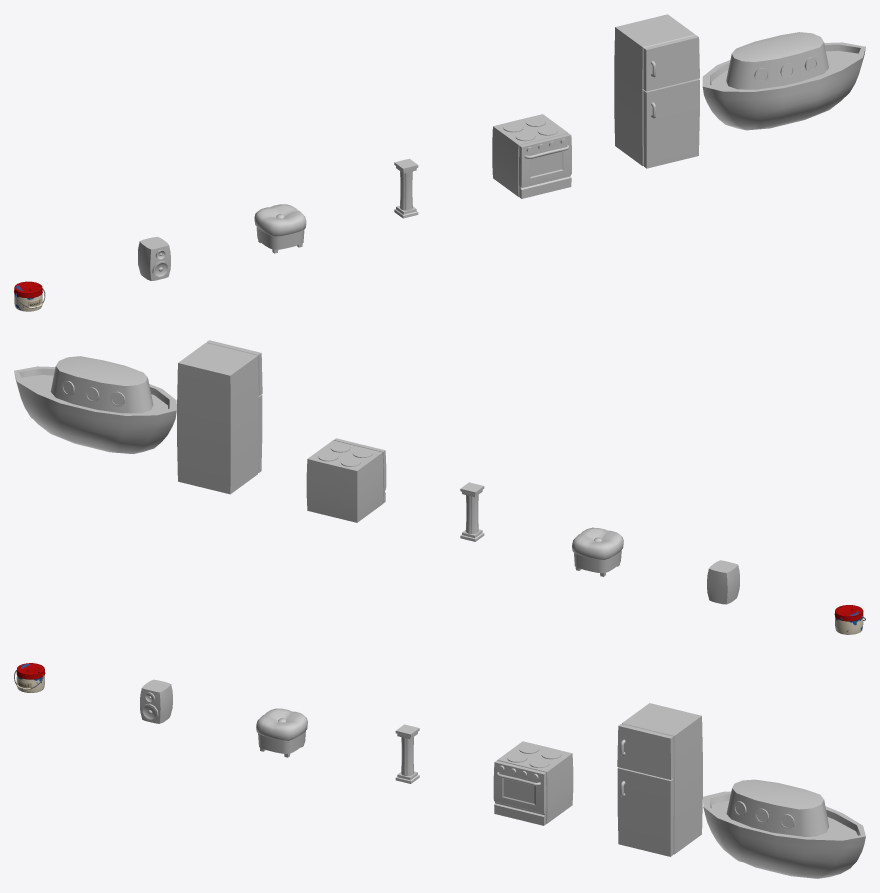
File: cariebels.fbx
3 views of the same model, one above another, from view 1: azimuth 30°, elevation 25°; view 2: azimuth 150°, elevation 25°; view 3: azimuth 330°, elevation 25° (orthographic).
Parts seen in each view (by area): view 1: geo_fridge_04, geo_ship_01, geo_oven_01, geo_footStool_01, geo_speaker_01, geo_pillar_01, geo_paintBucket_01; view 2: geo_fridge_04, geo_ship_01, geo_oven_01, geo_footStool_01, geo_speaker_01, geo_pillar_01, geo_paintBucket_01; view 3: geo_fridge_04, geo_ship_01, geo_oven_01, geo_footStool_01, geo_speaker_01, geo_pillar_01, geo_paintBucket_01.
Boxes of the visible parts, x1,y1,x2,y2 form: geo_fridge_04: (614, 14, 699, 168); geo_ship_01: (702, 32, 865, 130); geo_oven_01: (492, 114, 571, 198); geo_footStool_01: (254, 204, 306, 253); geo_speaker_01: (138, 237, 170, 280); geo_pillar_01: (394, 158, 418, 218); geo_paintBucket_01: (14, 281, 45, 311); geo_fridge_04: (177, 340, 262, 494); geo_ship_01: (14, 356, 176, 453); geo_oven_01: (306, 438, 386, 522); geo_footStool_01: (572, 527, 623, 576); geo_speaker_01: (707, 560, 739, 604); geo_pillar_01: (460, 482, 484, 541); geo_paintBucket_01: (834, 605, 865, 634); geo_fridge_04: (617, 703, 702, 856); geo_ship_01: (703, 779, 865, 878); geo_oven_01: (493, 741, 573, 825); geo_footStool_01: (256, 708, 307, 757); geo_speaker_01: (140, 679, 172, 723); geo_pillar_01: (395, 724, 419, 783); geo_paintBucket_01: (14, 663, 45, 692).
Bounding box in the file's own units: 1352 × 181 × 121.
